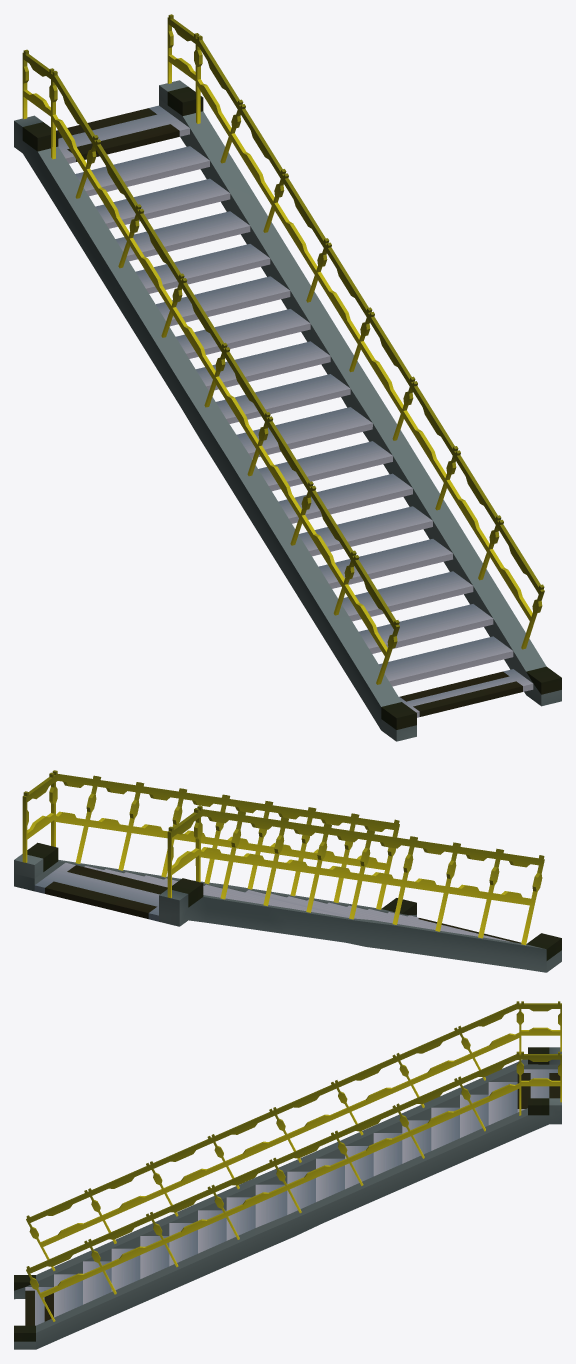
File: Asset_Escalera_Industrial_Grande.fbx
3 views of the same model, one above another, from view 1: azimuth 30°, elevation 25°; view 2: azimuth 150°, elevation 25°; view 3: azimuth 270°, elevation 25° (orthographic). The views are drawn at different scales.
Parts seen in each view (by area): view 1: Asset_Escalera_Industrial_Grande; view 2: Asset_Escalera_Industrial_Grande; view 3: Asset_Escalera_Industrial_Grande.
Boxes of the visible parts, x1,y1,x2,y2 form: Asset_Escalera_Industrial_Grande: (14, 14, 561, 741); Asset_Escalera_Industrial_Grande: (14, 770, 561, 972); Asset_Escalera_Industrial_Grande: (14, 1001, 561, 1349).
Bounding box in the file's own units: 100 × 237 × 400.
